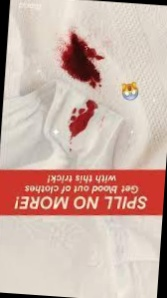blood: (57, 31, 104, 87), (68, 99, 99, 138)
